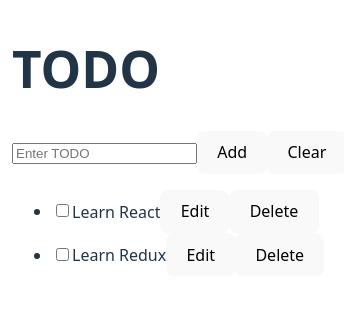
it: TODO App › User gets error when clicking Add without text
Click the button "Add" at {"x": 232, "y": 152}, box [197, 131, 267, 174]
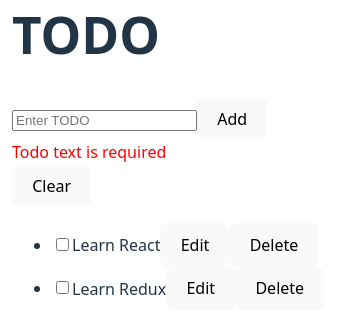
Expected: the text "Todo text is required" is shown, [12, 141, 166, 163]
